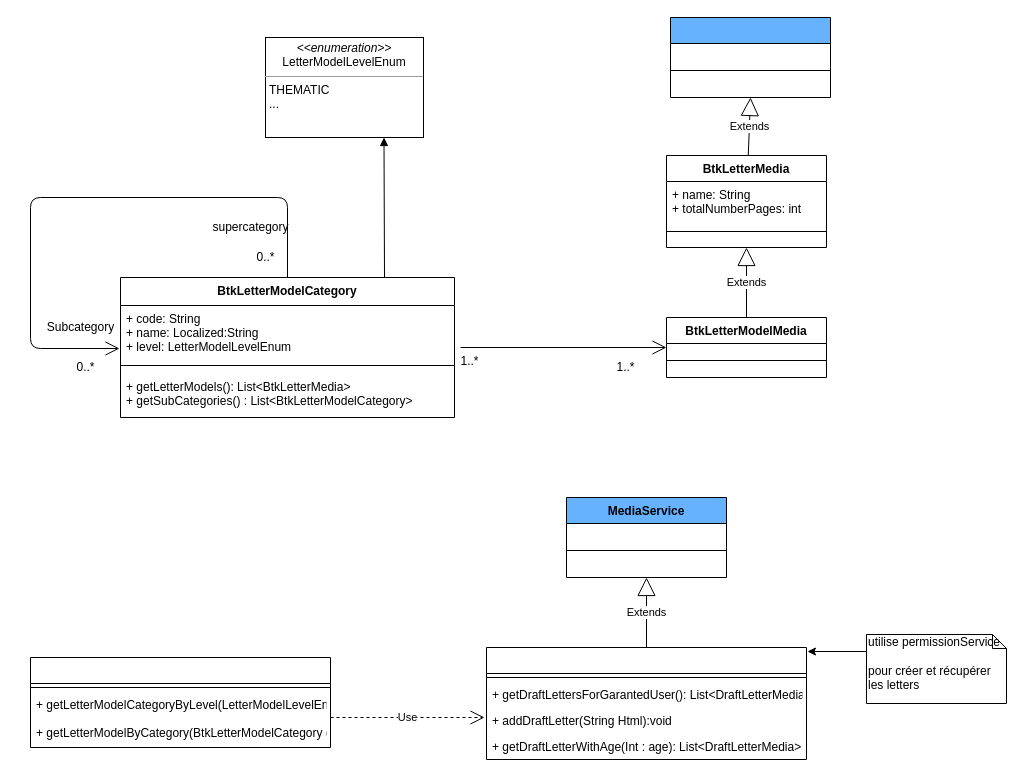
This 1024x780 diagram has some shape labels left out. The shapes that lost their labels are listed below. From the top down, each one's box as (x1, y1, x2, y2) in pixels, then its label:
(670, 16, 830, 98): Media
(30, 656, 330, 748): BtkLetterModelCategoryService
(486, 646, 806, 760): BtkLetterMediaService
